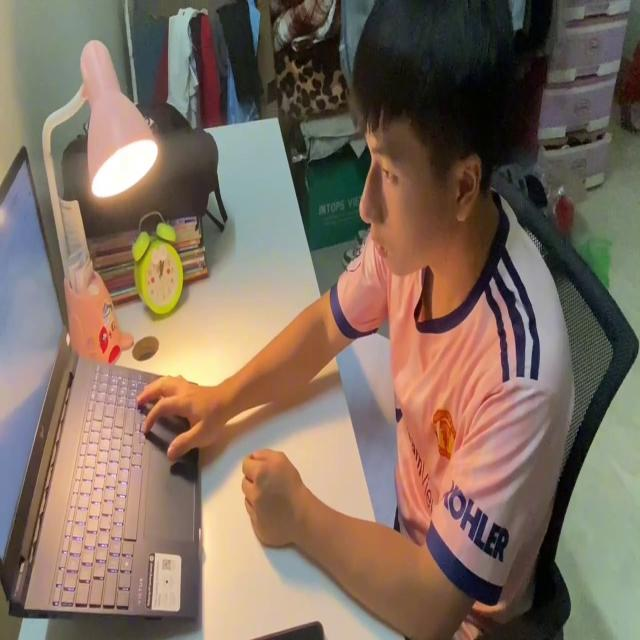book: (334, 315, 404, 536)
laptop: (0, 139, 203, 626)
phone: (244, 614, 325, 640)
student: (135, 0, 578, 640)
